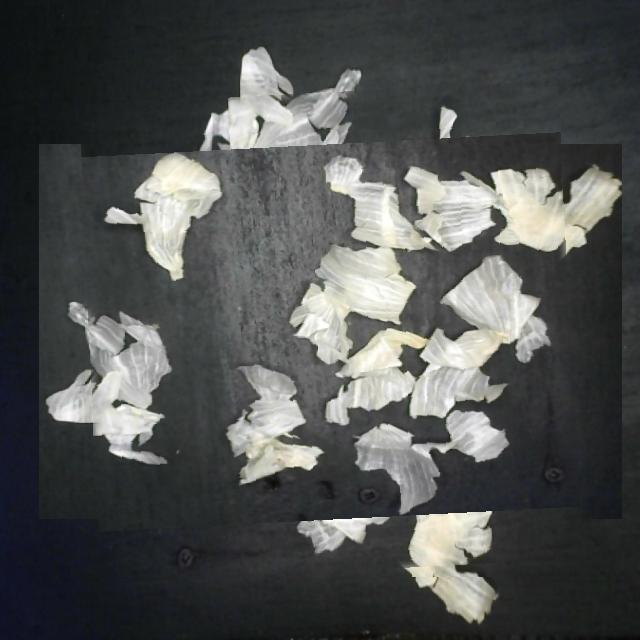biodegradable: (85, 86, 577, 577)
